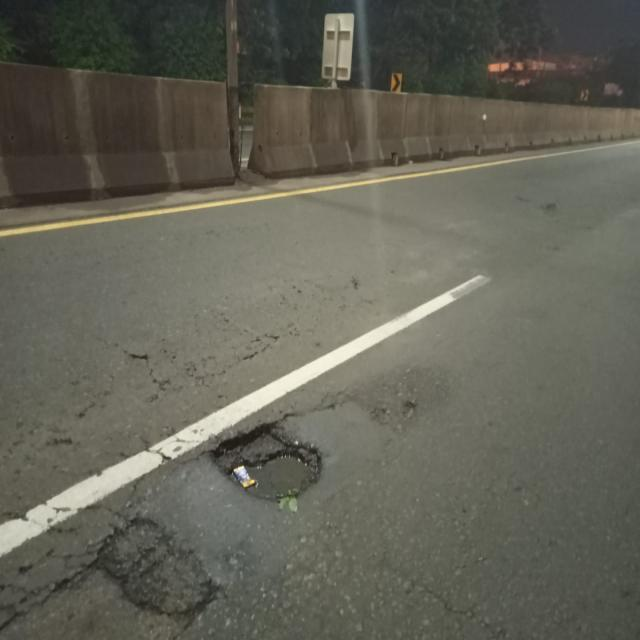Buraco: (205, 419, 326, 505)
